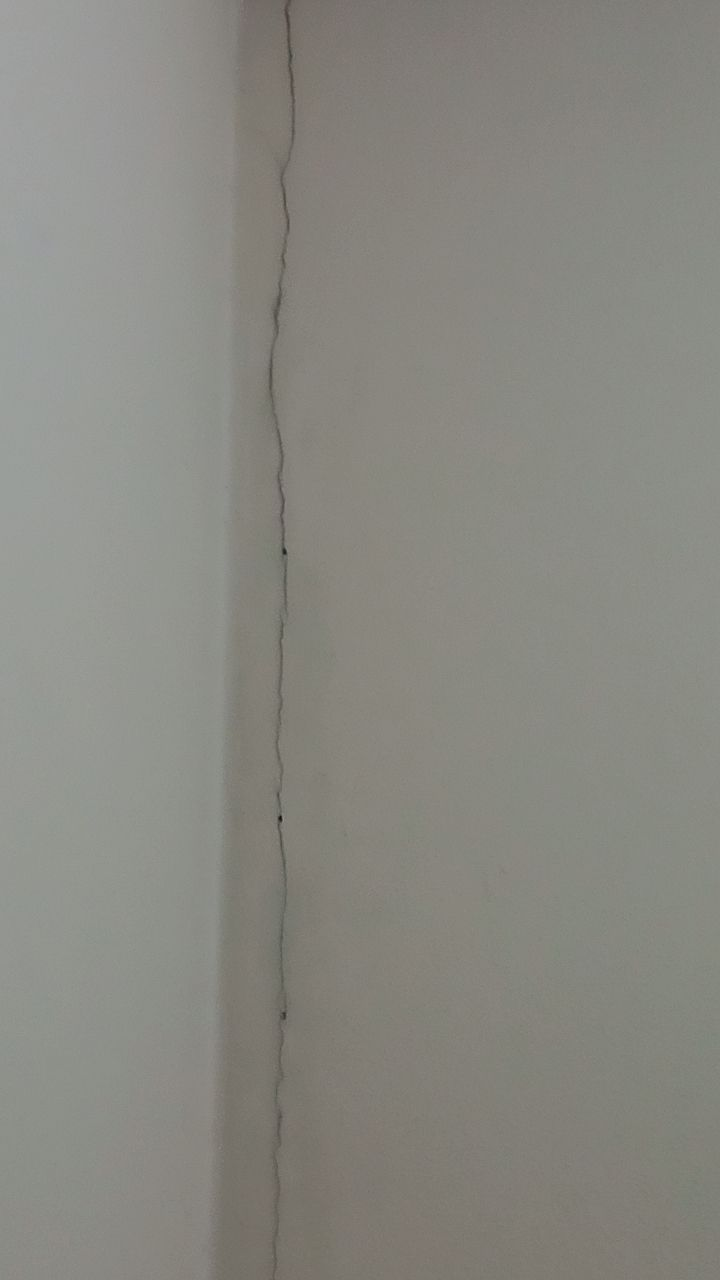Low: (248, 5, 436, 1280)
